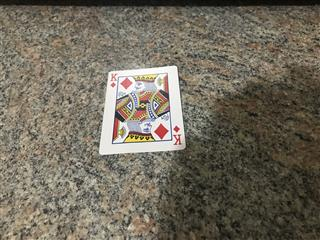KingOfDiamonds: (97, 64, 186, 155)
